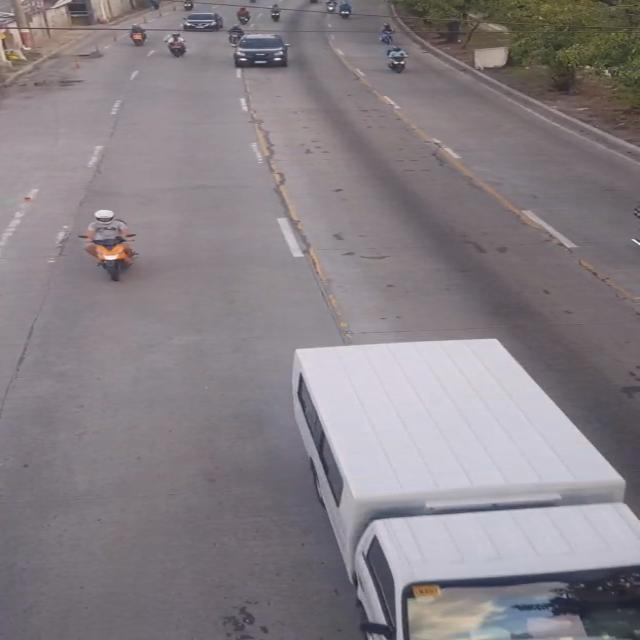car: (234, 32, 290, 68)
motorbike: (78, 212, 142, 281), (385, 43, 412, 74)
truck: (292, 327, 635, 636)
